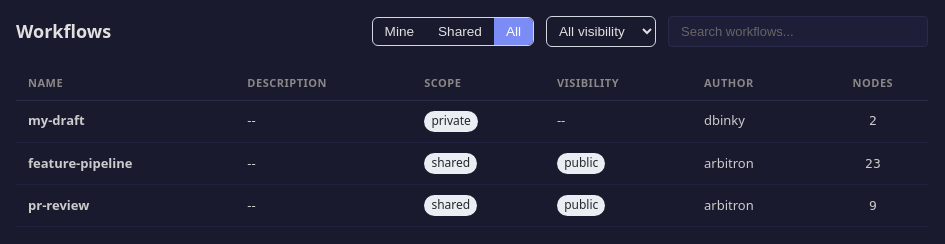
it: WorkflowsCatalog scope filtering › clicking a scope tab filters and writes the URL param
The image size is (945, 244).
expect the text "my-draft" is shown: met, box x1=16 y1=100 x2=235 y2=142
Click the button "Shared".
click(460, 32)  # box x1=426 y1=18 x2=494 y2=45
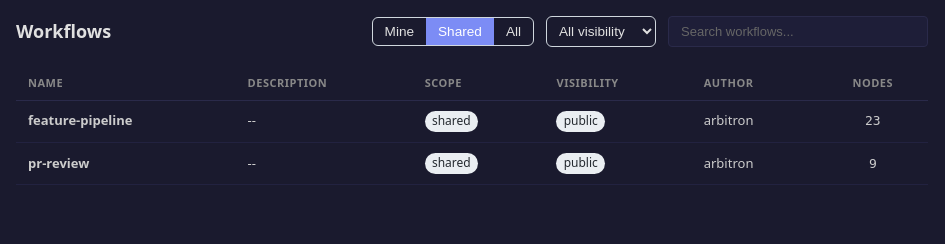
expect the text "feature-pipeline" is shown: met, box x1=16 y1=100 x2=236 y2=142
expect the text "my-draft" is gone: met
